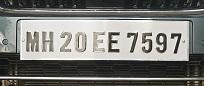0: (90, 29, 104, 53), (72, 30, 86, 52)
2: (58, 29, 72, 53)
5: (139, 30, 152, 53)
7: (168, 30, 182, 54), (125, 30, 139, 53)
9: (154, 31, 166, 52)
E: (106, 29, 120, 53)
H: (40, 29, 54, 52)
M: (23, 29, 38, 52)
